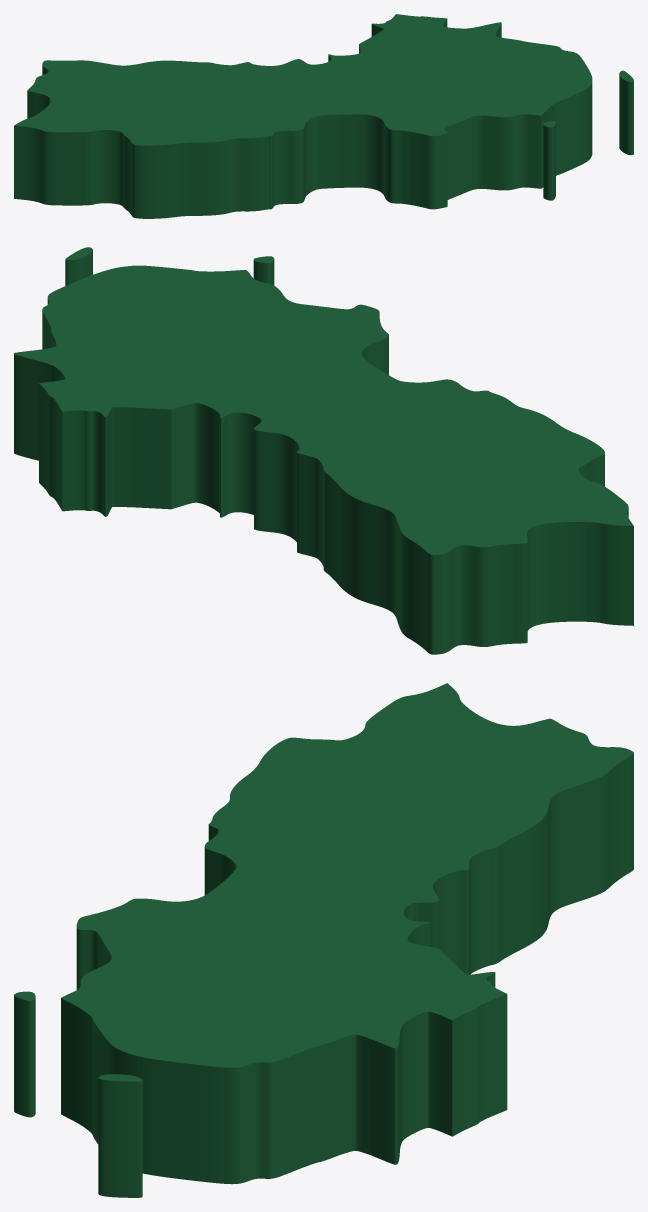
File: Asia_02.obj
3 renders of one model, top to bottom at view 1: azimuth 30°, elevation 25°; view 2: azimuth 150°, elevation 25°; view 3: azimuth 270°, elevation 25°, orthographic. The views are drawn at different scales.
Visible parts, largest first — view 1: Asia_02_path4276; view 2: Asia_02_path4276; view 3: Asia_02_path4276.
Boxes of the visible parts, x1=… form: Asia_02_path4276: x1=14, y1=14, x2=633, y2=218; Asia_02_path4276: x1=14, y1=247, x2=633, y2=654; Asia_02_path4276: x1=14, y1=683, x2=633, y2=1197.
Size of the model in its own units: 0.7348 by 0.1 by 0.4831.
